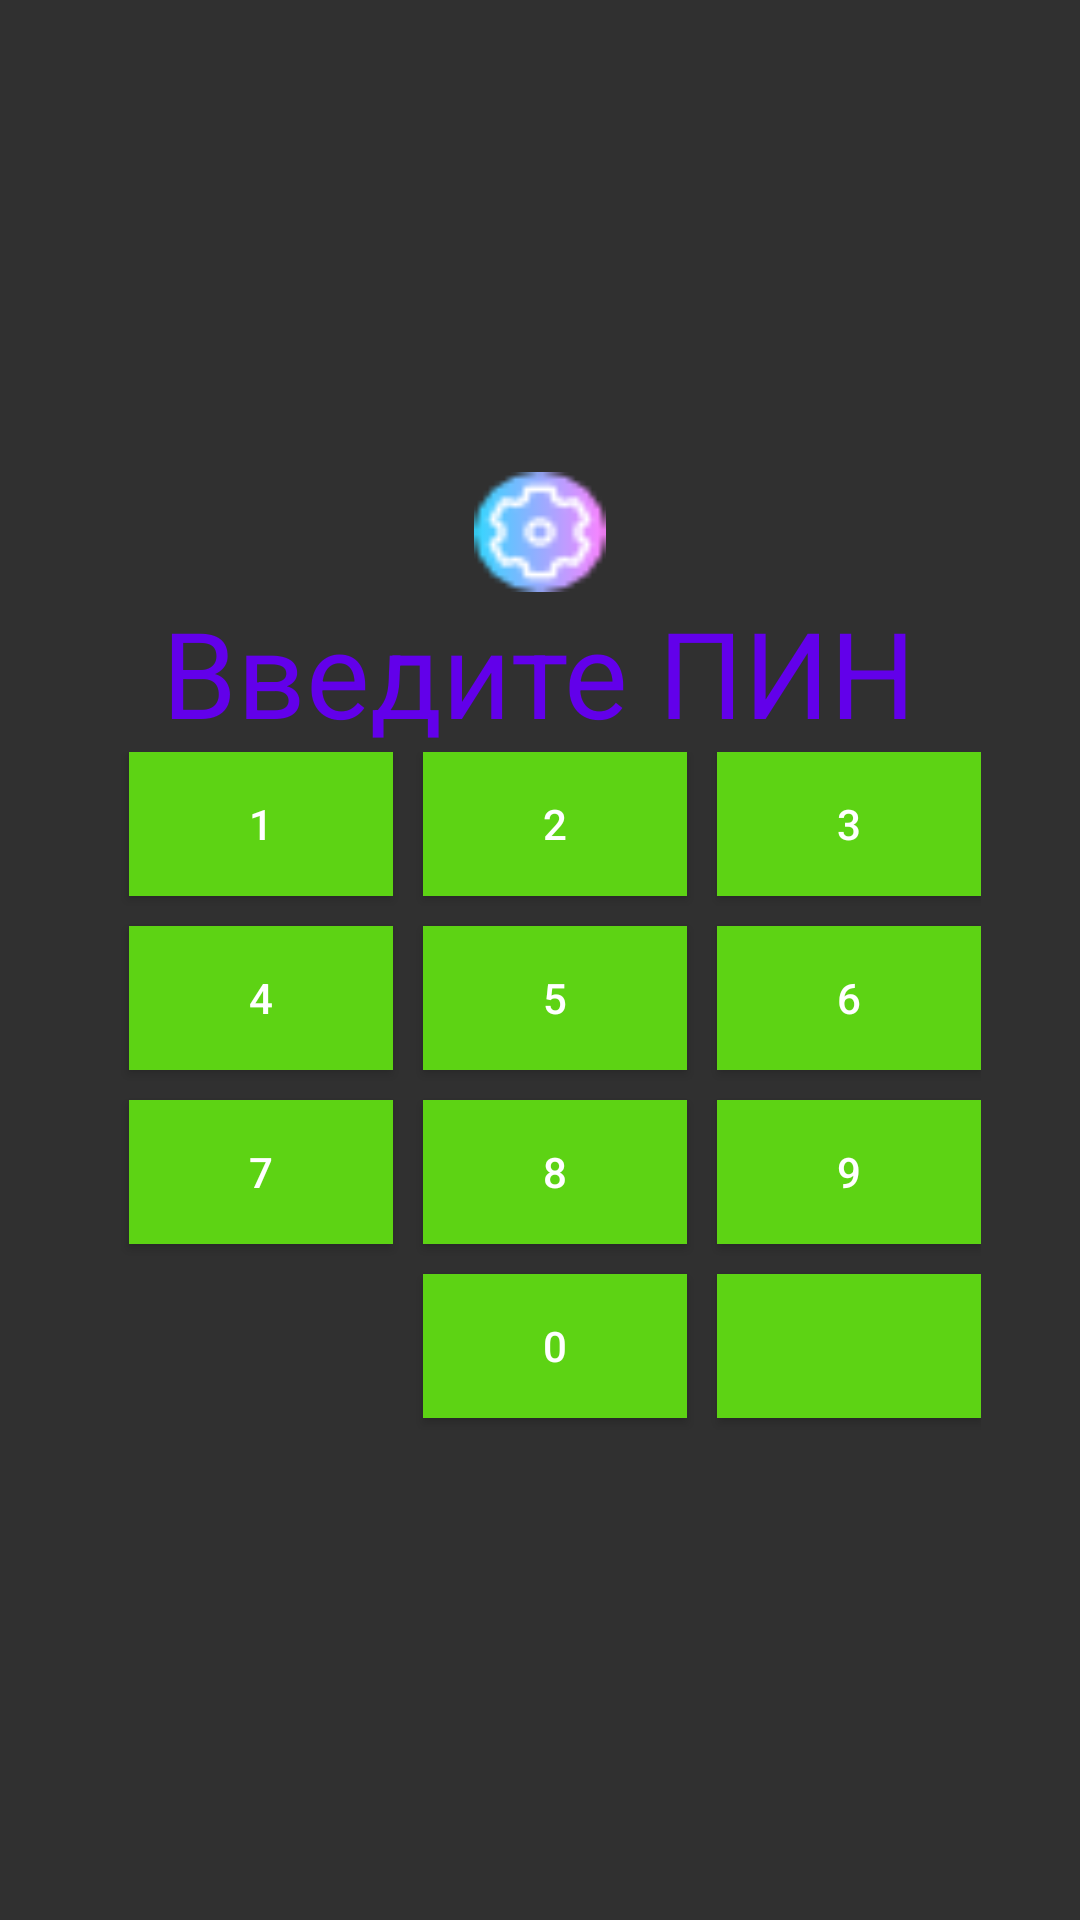

Named icons in this screenshot (1080×1920) and their centers, (x=x, y=y):
settings: (x=540, y=532)
